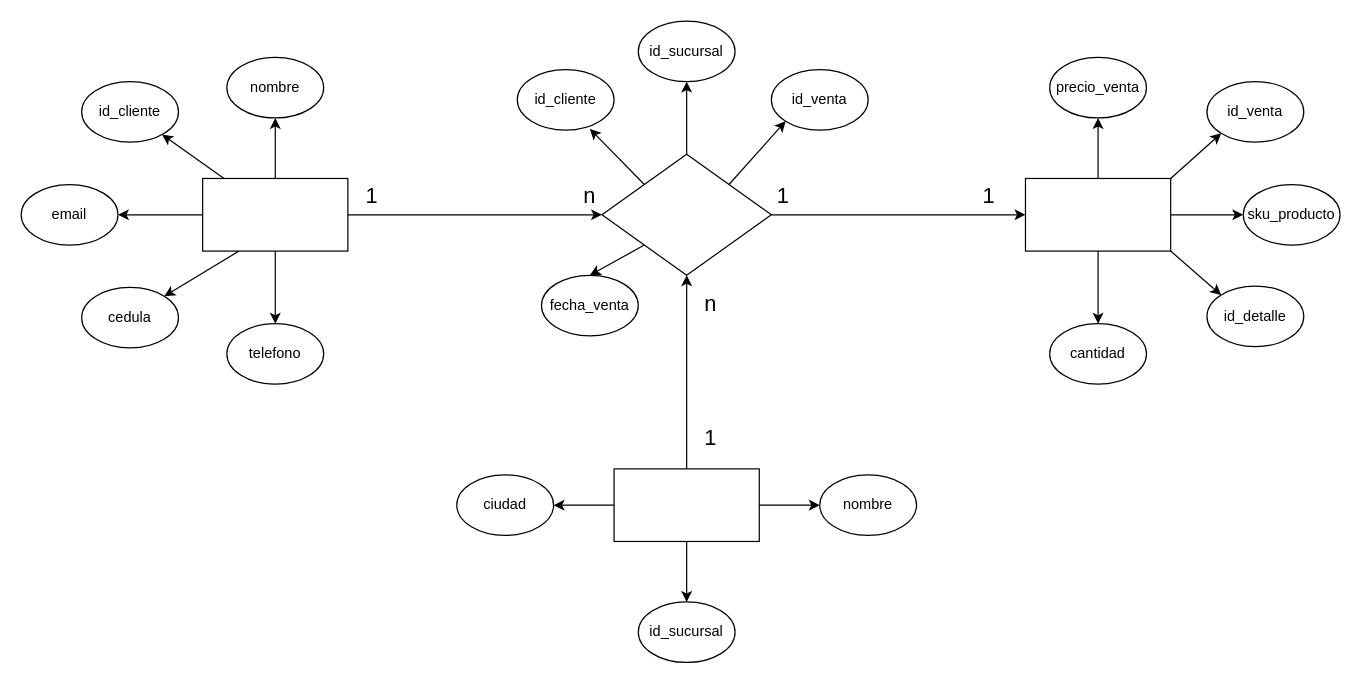
The diagram is 1361 pixels wide and 684 high, and some of its shapes have lost their labels. The shapes that lost their labels are listed below. From the top down, each one's centre as x and y in pixels, then its label:
At point 274,214: "Clientes".
At point 686,214: "Ventas".
At point 1097,214: "Detalles_Ventas".
At point 686,504: "Sucursales".
